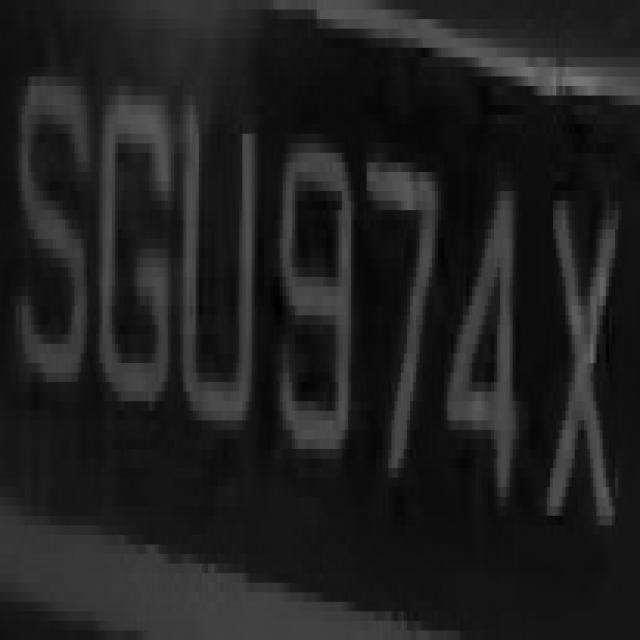4: (435, 153, 525, 535)
7: (363, 105, 435, 516)
9: (270, 76, 354, 497)
G: (90, 48, 168, 449)
S: (9, 38, 90, 440)
U: (168, 67, 261, 468)
X: (534, 172, 622, 554)
